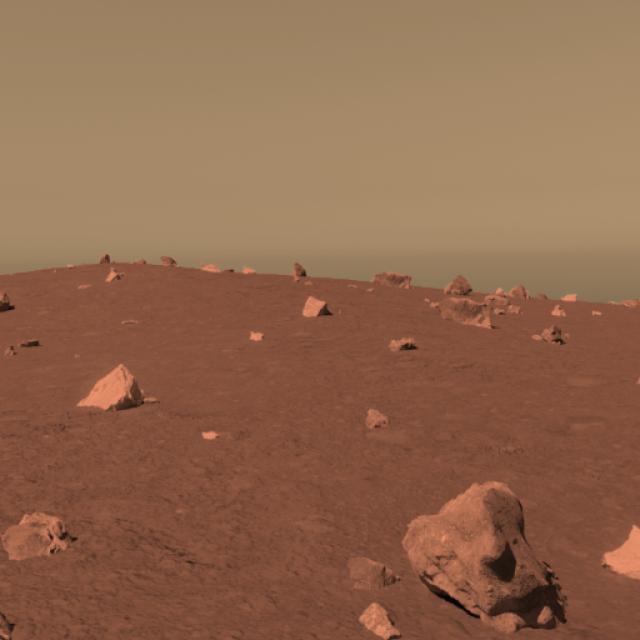rock: (402, 476, 570, 640), (74, 359, 146, 417), (0, 512, 68, 566)
